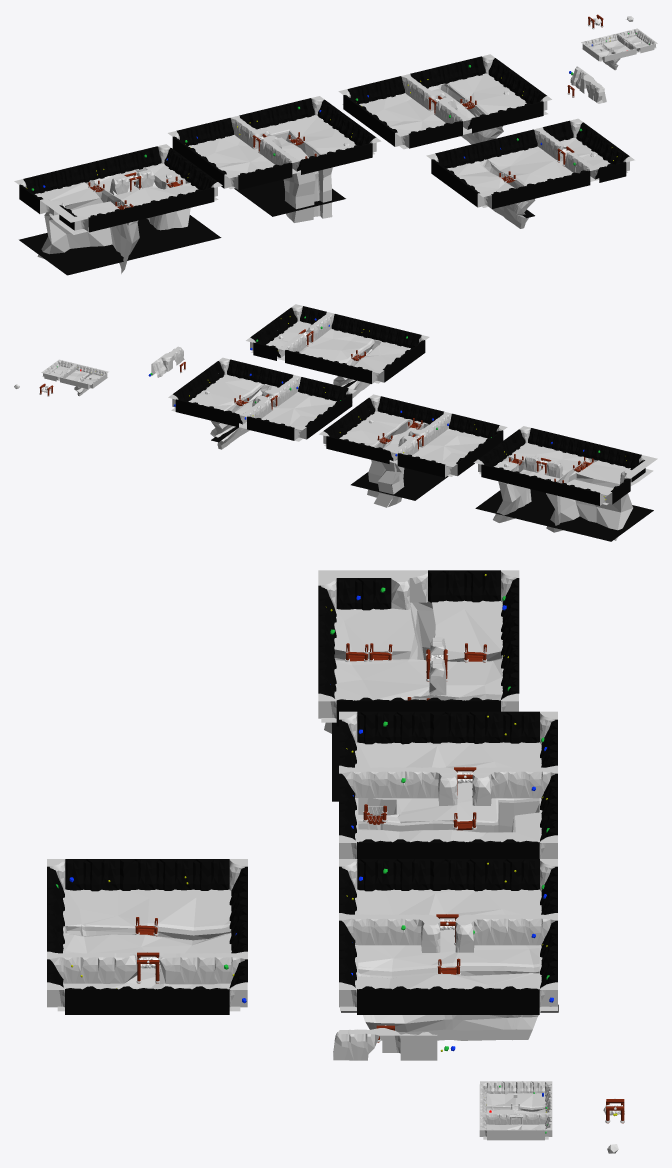
Rendered from Nivel_00_Tutorial.fbx.
The picture shows the model from 3 angles, top to bottom: view 1: azimuth 30°, elevation 25°; view 2: azimuth 150°, elevation 25°; view 3: azimuth 270°, elevation 25°; orthographic projection. The views are drawn at different scales.
Parts seen in each view (by area): view 1: Object009, Plane038, Object003, Object005, Object012, Object013, Object014, Plane041, Plane039, Plane001; view 2: Object009, Plane038, Object003, Object005, Object012, Object013, Object014, Plane041, Plane039, Plane001; view 3: Object009, Object003, Plane038, Object005, Object013, Object012, Object014, Plane001.
Part boxes in pixels (box(x1,y1,x2,y2)): Object009: box(14, 144, 222, 273); Plane038: box(168, 96, 381, 190); Object003: box(338, 54, 551, 148); Object005: box(426, 118, 634, 208); Object012: box(188, 115, 355, 222); Object013: box(342, 73, 547, 149); Object014: box(447, 137, 610, 228); Plane041: box(19, 215, 221, 275); Plane039: box(234, 179, 345, 216); Plane001: box(582, 36, 656, 70); Object009: box(473, 426, 657, 540); Plane038: box(319, 394, 507, 477); Object003: box(168, 357, 356, 440); Object005: box(246, 304, 429, 383); Object012: box(339, 411, 486, 507); Object013: box(171, 374, 352, 449); Object014: box(266, 321, 410, 398); Plane041: box(475, 489, 653, 541); Plane039: box(351, 468, 448, 500); Plane001: box(42, 366, 107, 396); Object009: box(318, 570, 519, 733); Object003: box(339, 859, 557, 1014); Plane038: box(339, 711, 557, 858); Object005: box(47, 859, 247, 1014); Object013: box(340, 889, 557, 1040); Object012: box(356, 742, 541, 842); Object014: box(65, 889, 232, 1011); Plane001: box(483, 1093, 548, 1139).
Size of the model in its own units: 3637 by 369 by 1597.
